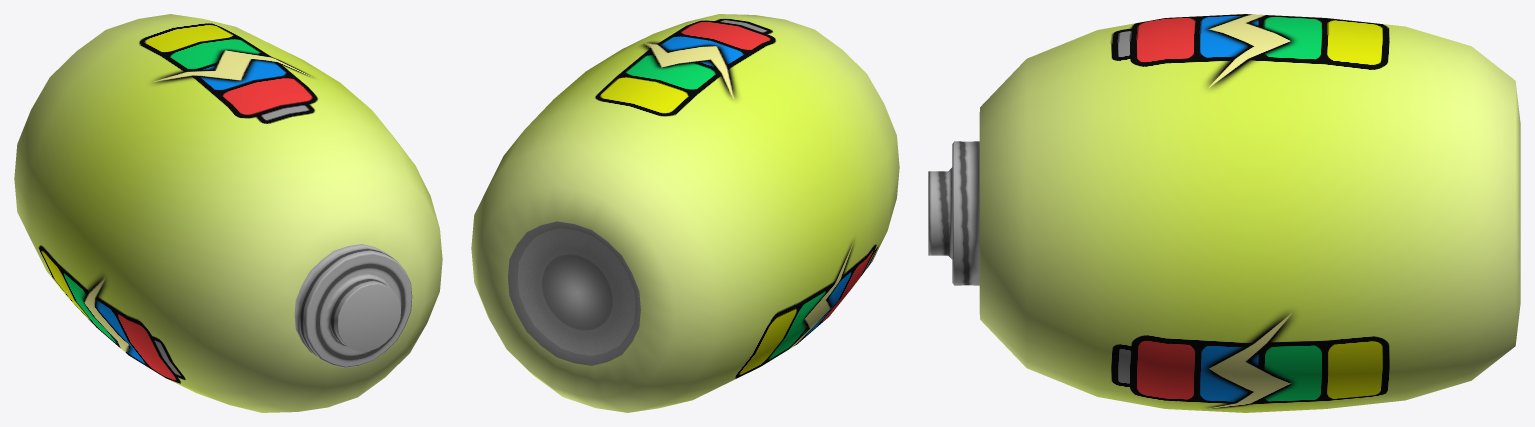
The model's file is Core.fbx.
The picture shows the model from 3 angles, left to right: view 1: azimuth 30°, elevation 25°; view 2: azimuth 150°, elevation 25°; view 3: azimuth 270°, elevation 25°; orthographic projection. The views are drawn at different scales.
Parts seen in each view (by area): view 1: Core; view 2: Core; view 3: Core.
Part boxes in pixels (bbox=[...]): Core: bbox=[14, 14, 442, 412]; Core: bbox=[471, 14, 899, 412]; Core: bbox=[928, 14, 1520, 412].
Bounding box in the file's own units: 18.86 × 18.86 × 27.9.
